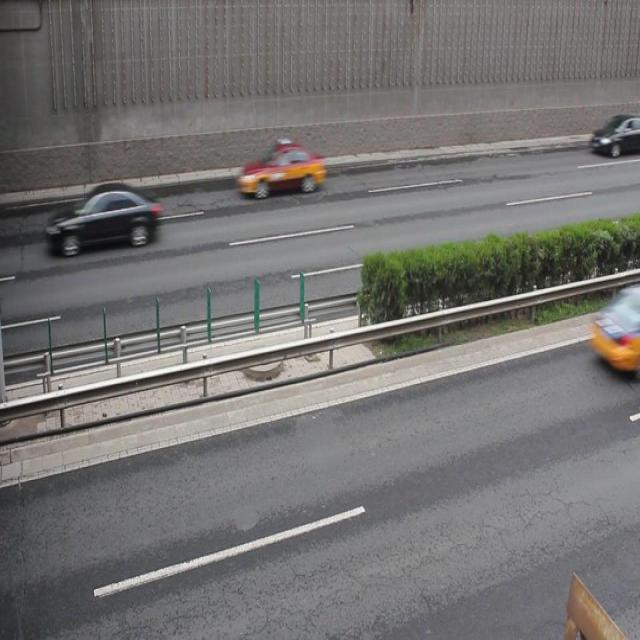car: (45, 181, 162, 254), (237, 140, 324, 198), (586, 112, 640, 157)
